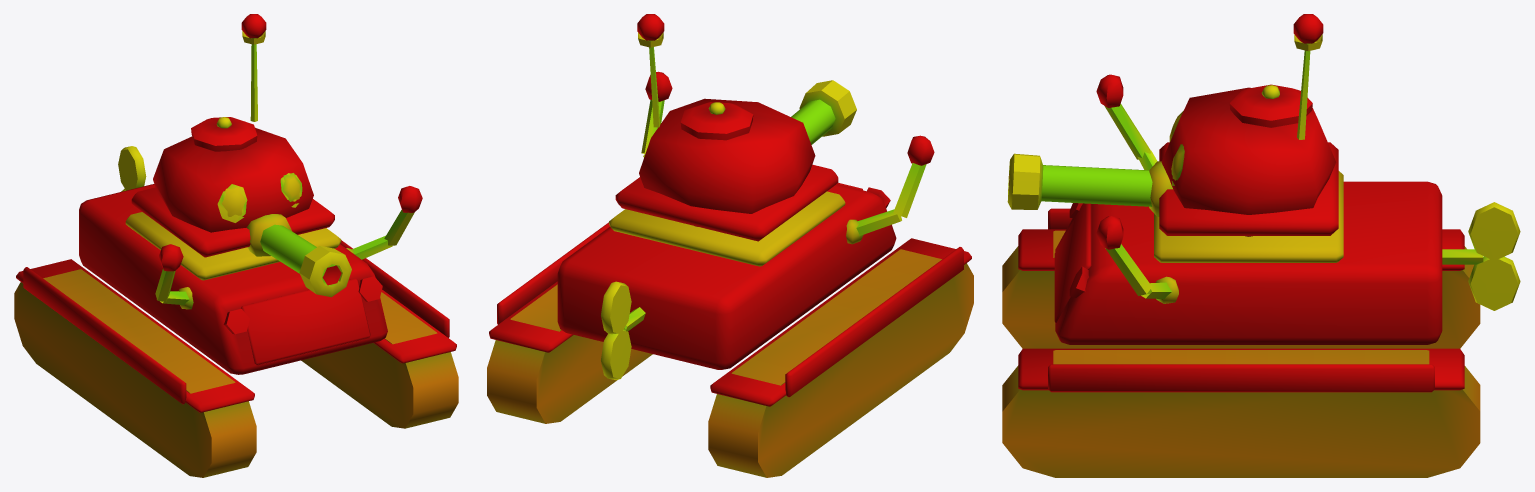
The model's file is RoboTank_LOD1.glb.
3 views of the same model, side by side, from view 1: azimuth 30°, elevation 25°; view 2: azimuth 150°, elevation 25°; view 3: azimuth 270°, elevation 25° (orthographic). The views are drawn at different scales.
Visible parts, largest first — view 1: RoboTank_LOD1; view 2: RoboTank_LOD1; view 3: RoboTank_LOD1.
Boxes of the visible parts, bbox=[...] form: RoboTank_LOD1: bbox=[14, 14, 458, 477]; RoboTank_LOD1: bbox=[487, 14, 973, 477]; RoboTank_LOD1: bbox=[1002, 14, 1520, 477].
Size of the model in its own units: 1.62 by 1.98 by 2.23.
